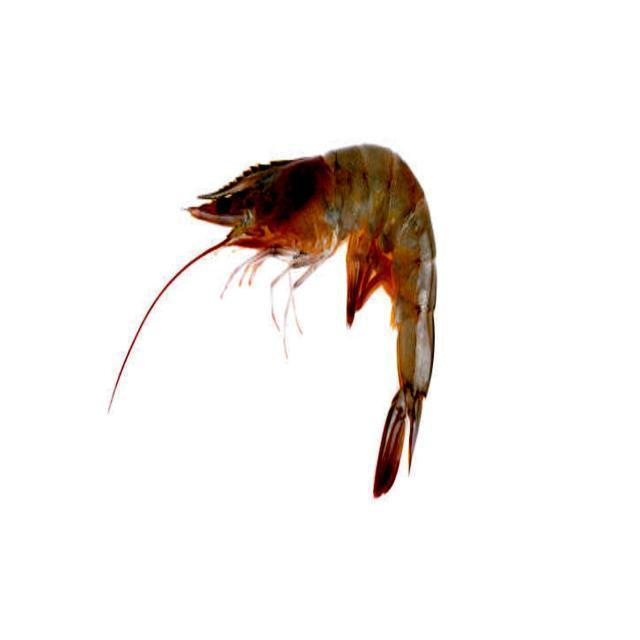shrimp: (189, 146, 435, 494)
